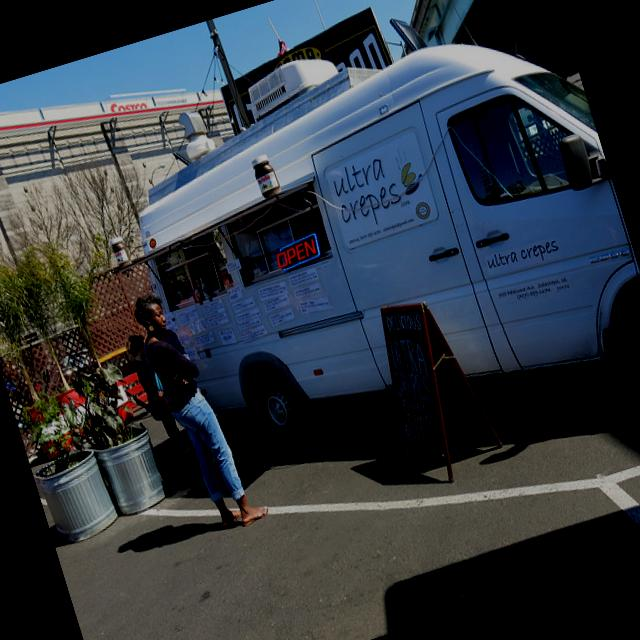Vehicle: (97, 0, 640, 541)
